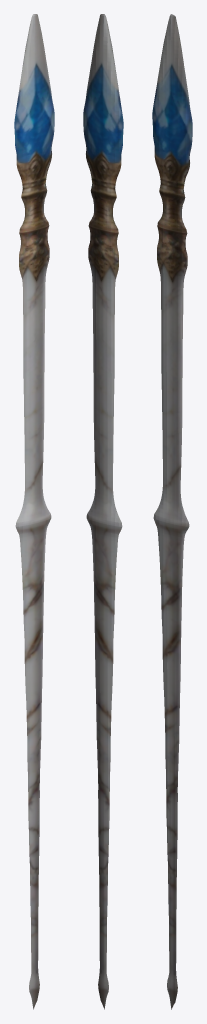
File: ice_staff.glb
The picture shows the model from 3 angles, left to right: view 1: azimuth 30°, elevation 25°; view 2: azimuth 150°, elevation 25°; view 3: azimuth 330°, elevation 25°; orthographic projection.
Visible parts, largest first — view 1: Grid; view 2: Grid; view 3: Grid.
Part boxes in pixels (box(x1,y1,x2,y2)): Grid: box(14, 14, 54, 1009); Grid: box(83, 14, 123, 1009); Grid: box(152, 14, 192, 1009).
Bounding box in the file's own units: 0.3147 × 7.4 × 0.0436.
Materials: 1 (1 with a texture image).
